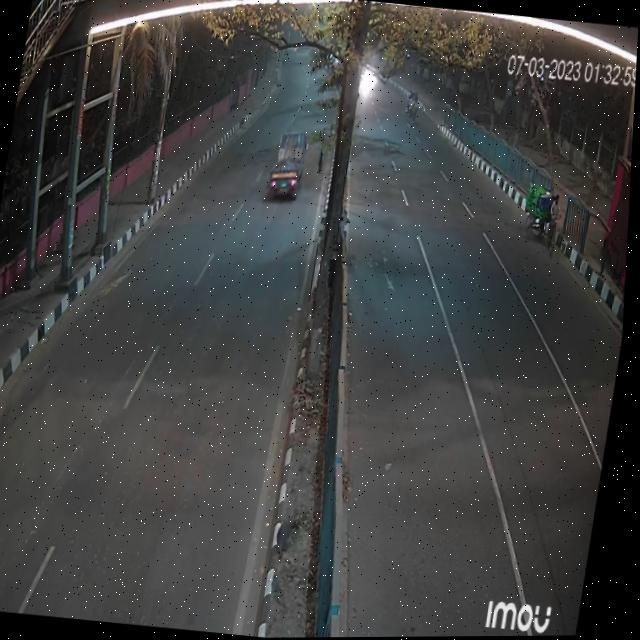rikshaw: (399, 86, 423, 128)
